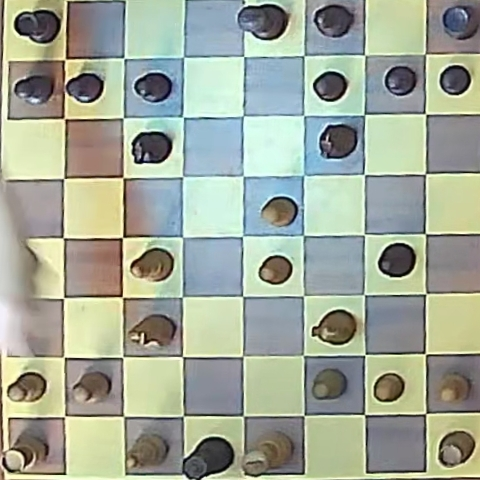black-bishop: (313, 4, 354, 38), (378, 243, 416, 278)
black-king: (237, 3, 286, 40)
black-knight: (319, 124, 357, 159), (131, 131, 171, 164)
black-pawn: (133, 72, 172, 103), (14, 75, 54, 105), (66, 72, 104, 103), (313, 71, 347, 101), (384, 65, 417, 95), (439, 65, 471, 95)
black-rook: (14, 9, 61, 44), (442, 5, 478, 39)
white-bishop: (126, 433, 168, 469), (130, 248, 173, 282)
white-king: (242, 431, 292, 476)
white-knight: (128, 314, 175, 348), (312, 310, 356, 346)
white-pawn: (72, 372, 111, 404), (7, 372, 47, 403), (261, 197, 297, 228), (312, 369, 346, 400), (259, 256, 293, 285), (374, 374, 405, 403), (438, 374, 469, 403)
white-queen: (182, 437, 234, 480)
white-rook: (1, 432, 48, 473), (438, 431, 474, 467)
